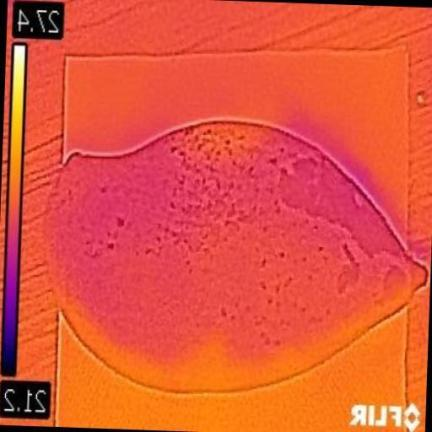mango: (47, 121, 425, 389)
